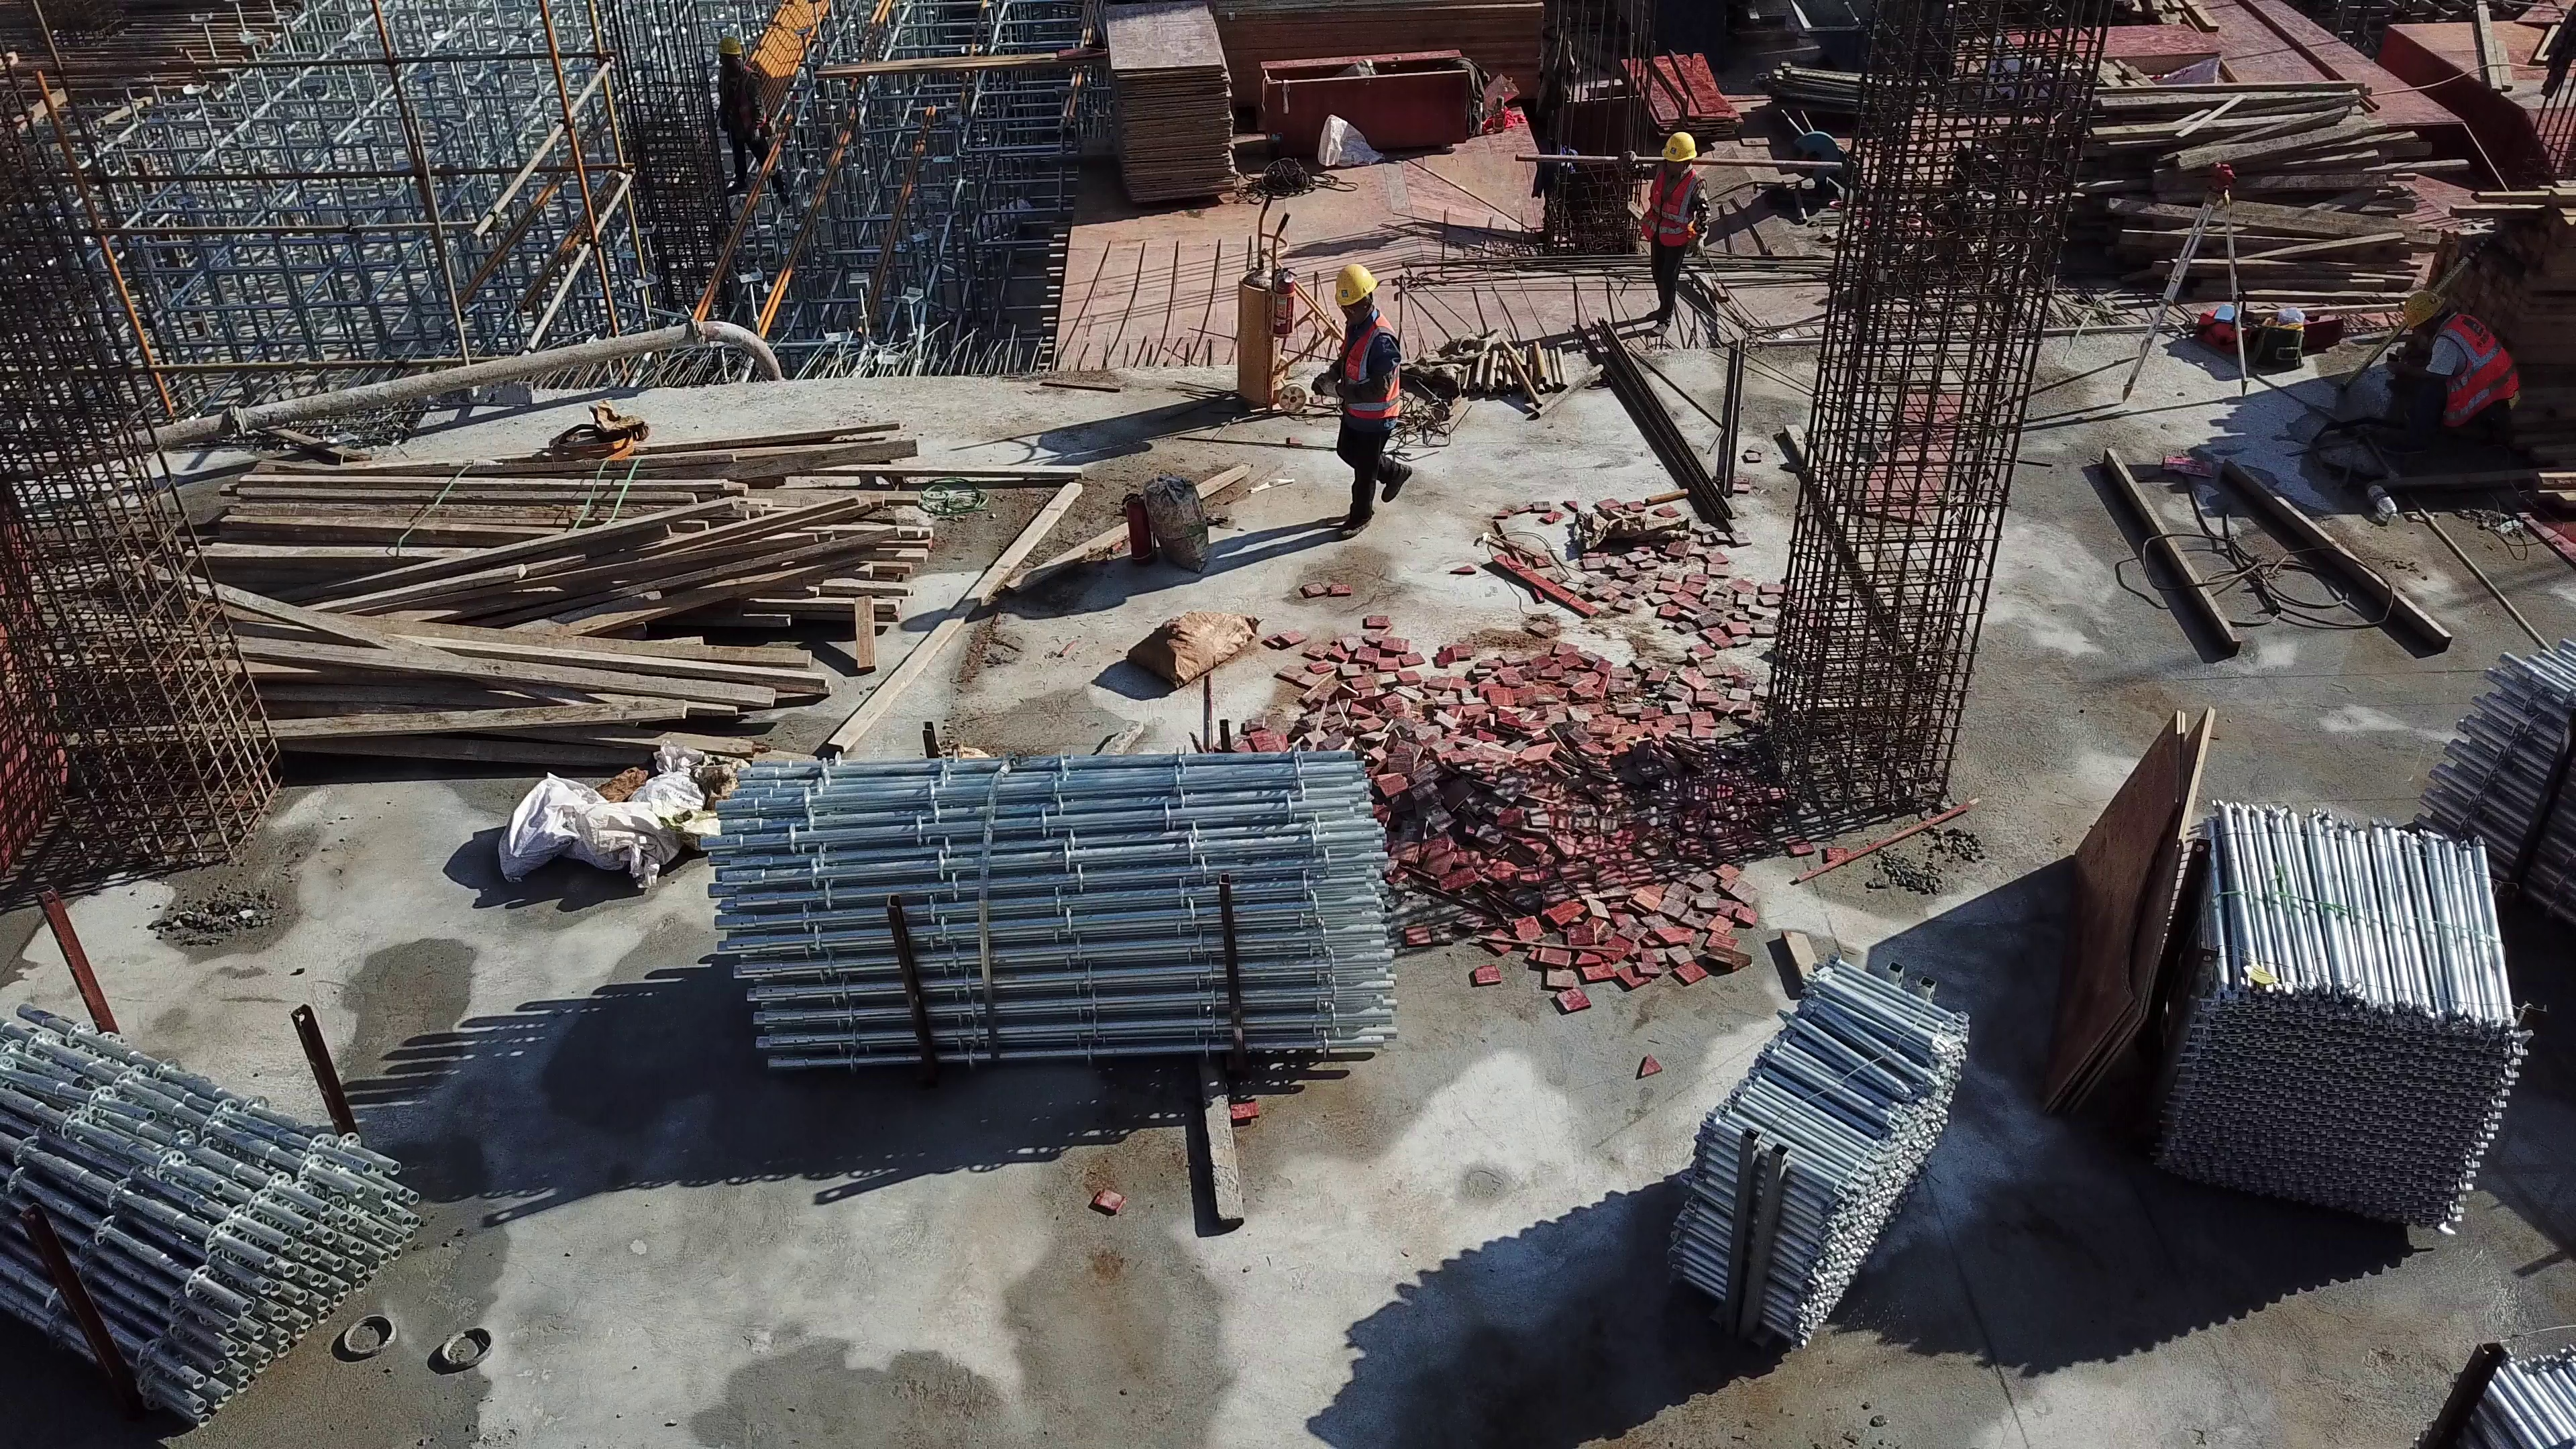board: (1088, 10, 1250, 200)
helmet: (1327, 260, 1378, 311), (2398, 286, 2449, 331), (1660, 123, 1697, 164), (710, 30, 744, 57)
person: (1306, 257, 1415, 543), (2400, 282, 2526, 460), (700, 32, 798, 210), (1636, 127, 1716, 349)
scaffold: (682, 738, 1407, 1096), (2, 985, 429, 1432), (2182, 785, 2530, 1250), (1655, 949, 1980, 1358), (2401, 631, 2576, 928), (2403, 1319, 2576, 1444)
vest: (2428, 310, 2514, 416), (1332, 323, 1401, 427), (1641, 170, 1707, 257)
wood: (101, 381, 954, 787)
